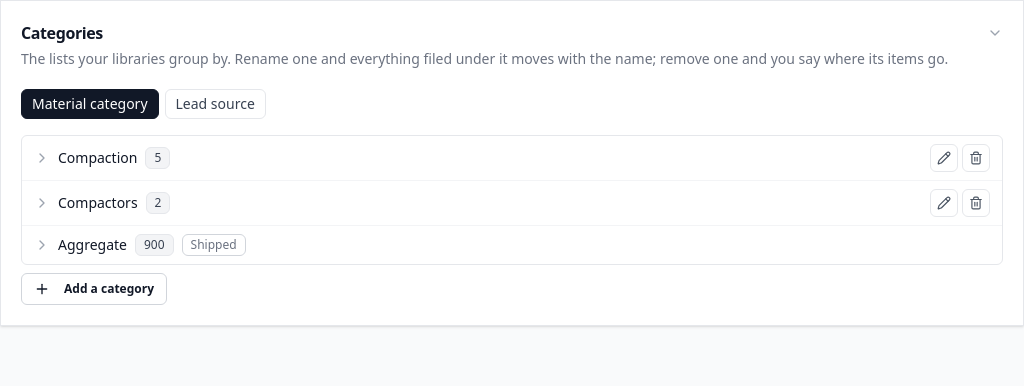
Test: opening one › shows the rows behind the count
Expected: the text "Compaction" is shown, [58, 148, 137, 168]
Click the button with aria-label "what is filed under Compaction" at coordinates (98, 158), box [34, 147, 922, 169]
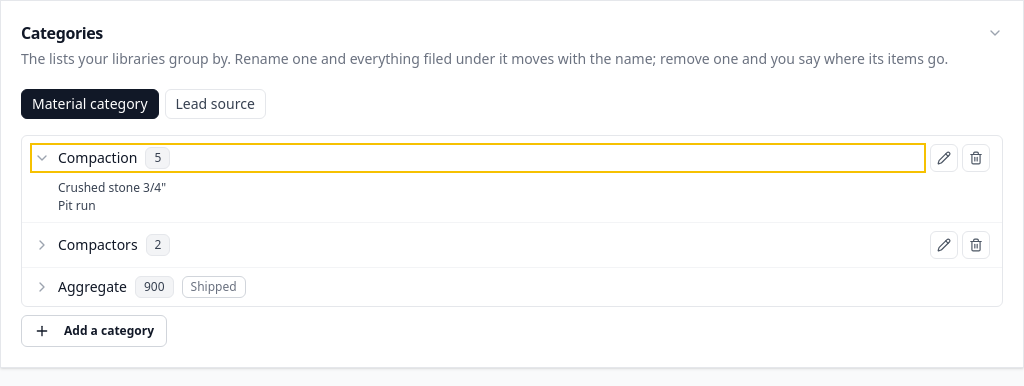
Now the text "Crushed stone 3/4\"" is shown, box [58, 180, 166, 196]
